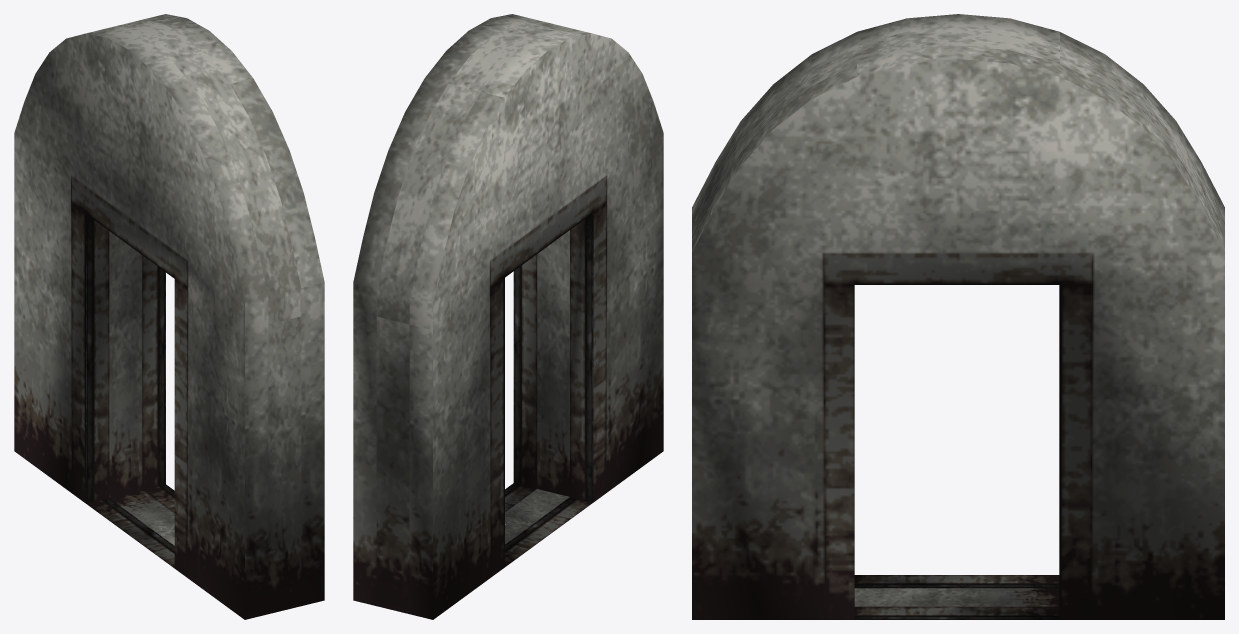
Rendered from SM_EC_ConcreteTunnel_DoorWay_1.fbx.
3 views of the same model, side by side, from view 1: azimuth 30°, elevation 25°; view 2: azimuth 150°, elevation 25°; view 3: azimuth 270°, elevation 25° (orthographic). The views are drawn at different scales.
Visible parts, largest first — view 1: SM_EC_ConcreteTunnel_DoorWay_1; view 2: SM_EC_ConcreteTunnel_DoorWay_1; view 3: SM_EC_ConcreteTunnel_DoorWay_1.
Boxes of the visible parts, x1=… form: SM_EC_ConcreteTunnel_DoorWay_1: x1=14, y1=14, x2=324, y2=619; SM_EC_ConcreteTunnel_DoorWay_1: x1=353, y1=14, x2=663, y2=619; SM_EC_ConcreteTunnel_DoorWay_1: x1=692, y1=14, x2=1224, y2=619.
Bounding box in the file's own units: 0.6001 × 3 × 3.48.
